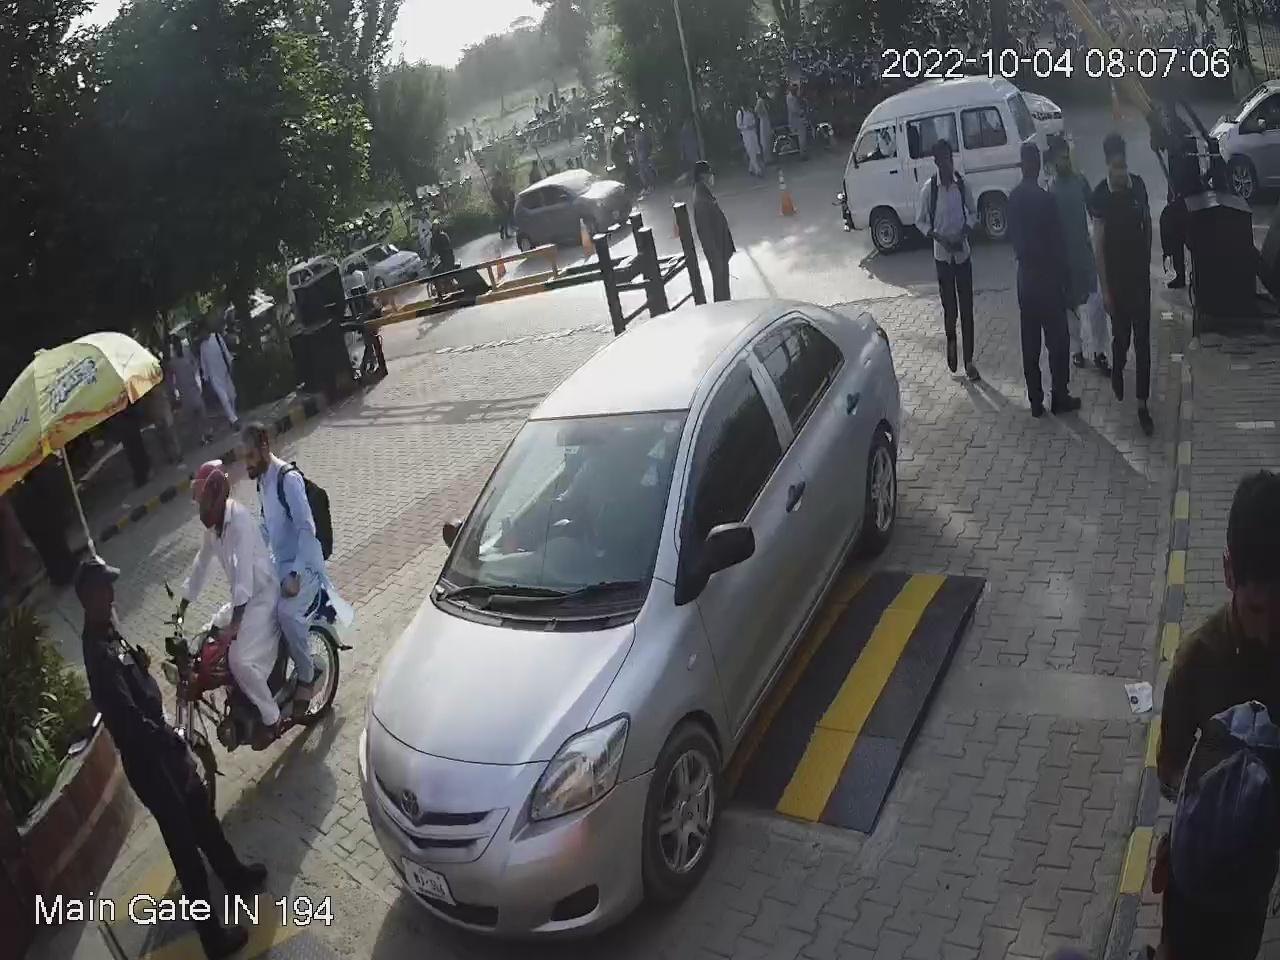windshield: (435, 407, 693, 622)
